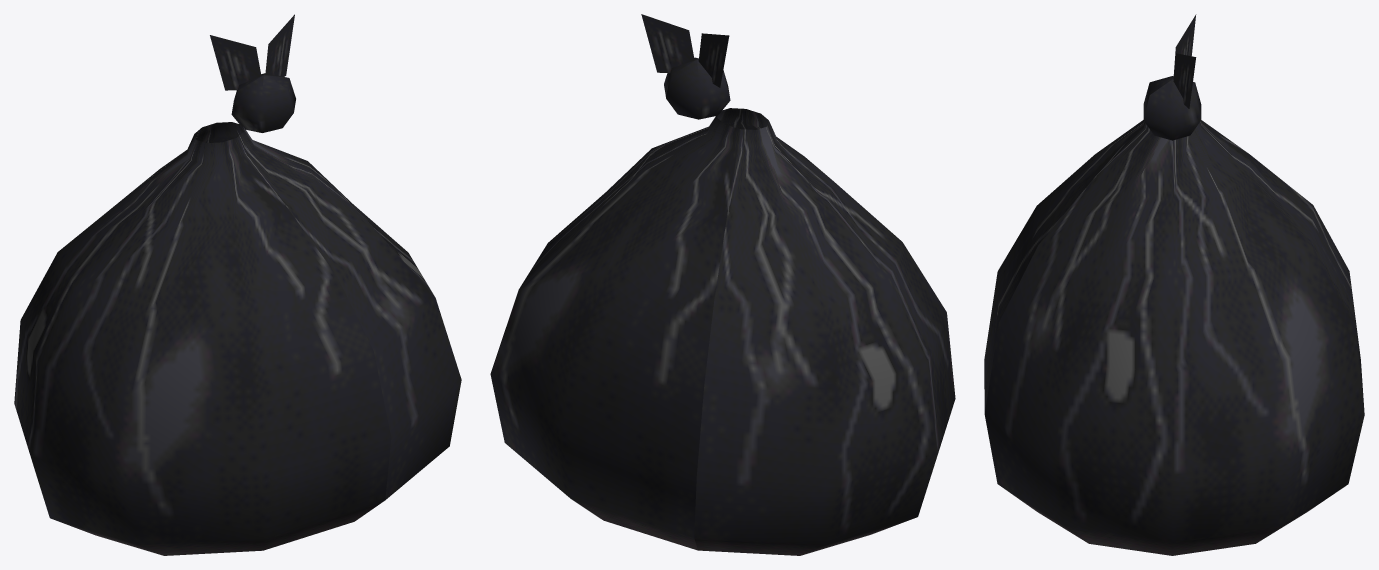
File: trash_bag.obj
3 views of the same model, side by side, from view 1: azimuth 30°, elevation 25°; view 2: azimuth 150°, elevation 25°; view 3: azimuth 270°, elevation 25° (orthographic). The views are drawn at different scales.
Parts seen in each view (by area): view 1: trash_bag; view 2: trash_bag; view 3: trash_bag.
Part boxes in pixels (<box>): trash_bag: <box>14,14,461,555</box>; trash_bag: <box>490,14,955,555</box>; trash_bag: <box>984,14,1364,555</box>.
Size of the model in its own units: 0.6134 by 0.6554 by 0.4724.
1 material, 1 textured.
